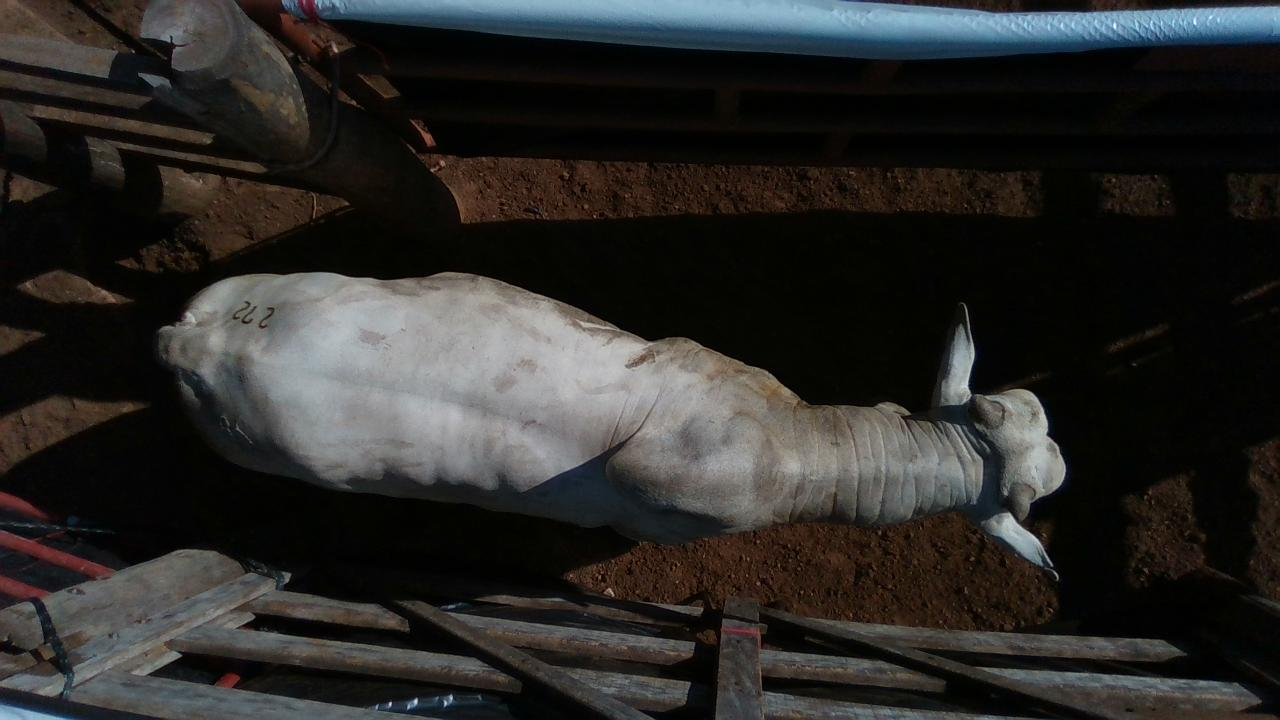cattle: (153, 267, 1067, 581)
